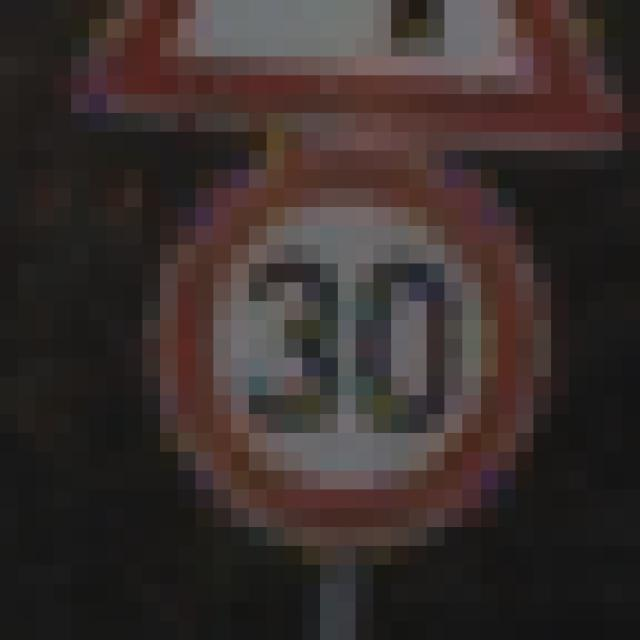Speed Limit -30-: (98, 104, 524, 536)
